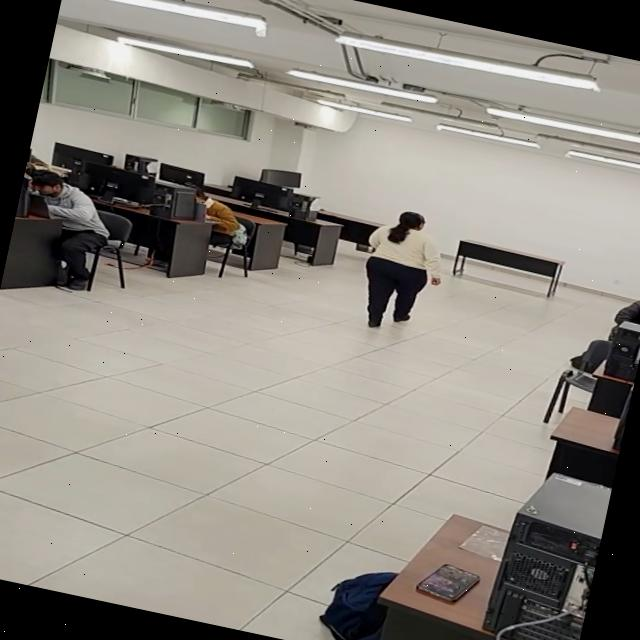Persona: (342, 195, 459, 344)
